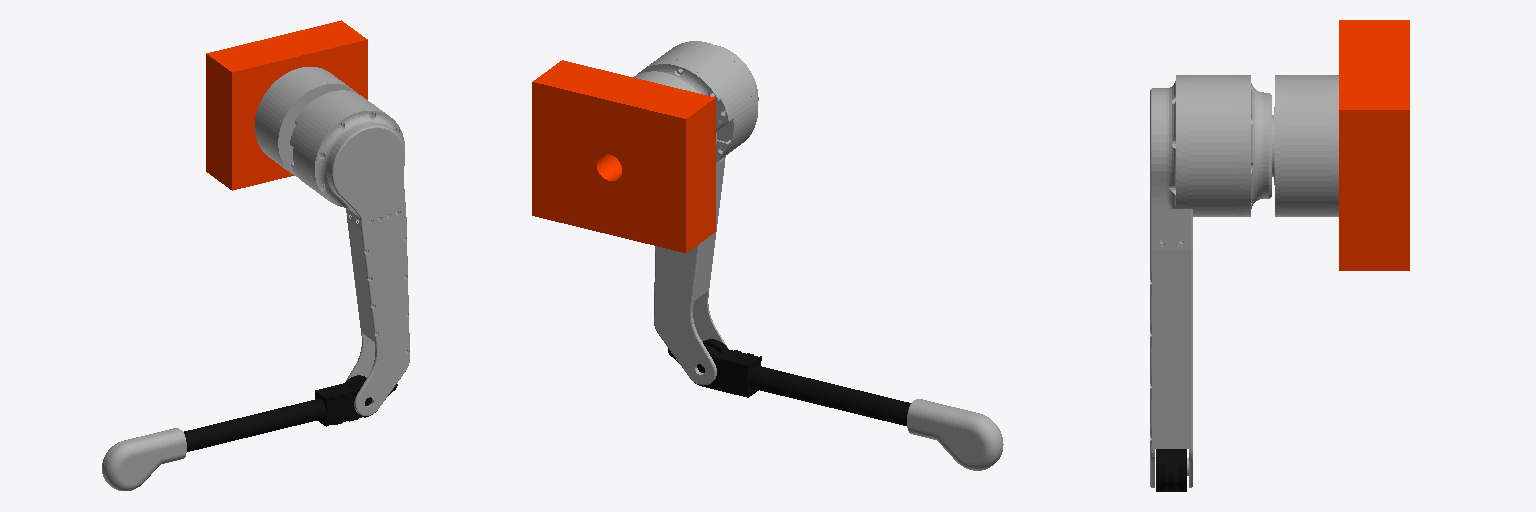
URDF robot description (Nomad):
<?xml version="1.0" ?>
<robot name="Nomad">

<material name="silver">
  <color rgba="0.700 0.700 0.700 1.000"/>
</material>

<material name="orange">
  <color rgba="1.000 0.2706 0.000 1.000"/>
</material>

<material name="black">
  <color rgba="0.100 0.100 0.100 1.000"/>
</material>


<link name="world"/>
<!--
<joint name="leg_to_world_fixed" type="fixed">
    <parent link="world"/>
    <child link="base_link"/>
    <origin xyz="0 0.0 0.5" rpy="0 0 0" />
</joint>
-->

<joint name="leg_to_world" type="prismatic">
    <parent link="world"/>
    <child link="base_link"/>
    <origin xyz="0 0.0 0.0" rpy="0 0 0" />
    <axis xyz="0.0 0.0 1.0"/>
    <limit effort="1000.0" velocity="100.0" lower="-1.0" upper="3.0" />
</joint>


<link name="base_link">
  <inertial>
    <origin rpy="0 0 0" xyz="0.013417226758864191 -0.026438366790666842 -0.03098253987913053"/>
    <mass value="7.166707013041554"/>
    <inertia ixx="0.01106805740051774" ixy="-2.688821387764051e-17" ixz="2.6020852139652106e-18" iyy="0.02336629547074094" iyz="1.6479873021779667e-17" izz="0.015284365992323856"/>
  </inertial>
  <visual>
    <origin rpy="0 0 0" xyz="0 0 0"/>
    <geometry>
      <mesh filename="meshes/base_link.stl" scale="0.001 0.001 0.001"/>
    </geometry>
    <material name="orange"/>
  </visual>
  <collision>
    <origin rpy="0 0 0" xyz="0 0 0"/>
    <geometry>
      <mesh filename="meshes/base_link.stl" scale="0.001 0.001 0.001"/>
    </geometry>
  </collision>
</link>

<link name="hfe_motor">
  <inertial>
    <origin rpy="0 0 0" xyz="2.355489730904159e-07 -0.028017105086293764 0.0005418477318708086"/>
    <mass value="0.22819661408568134"/>
    <inertia ixx="0.00022867987683109544" ixy="-4.8251647875819856e-11" ixz="1.0859538501729535e-12" iyy="0.00033739620126913065" iyz="-3.1919090569470588e-06" izz="0.0002340324473857605"/>
  </inertial>
  <visual>
    <origin rpy="0 0 0" xyz="-0.013417 0.051438 0.030983"/>
    <geometry>
      <mesh filename="meshes/HFE_Actuator1.stl" scale="0.001 0.001 0.001"/>
    </geometry>
    <material name="silver"/>
  </visual>
  <collision>
    <origin rpy="0 0 0" xyz="-0.013417 0.051438 0.030983"/>
    <geometry>
      <mesh filename="meshes/HFE_Actuator1.stl" scale="0.001 0.001 0.001"/>
    </geometry>
  </collision>
</link>

<link name="kfe_motor">
  <inertial>
    <origin rpy="0 0 0" xyz="0.0025125273070217644 -0.03773429985642904 0.00019195849646111082"/>
    <mass value="0.3024397808873297"/>
    <inertia ixx="0.0003757916597388533" ixy="-1.8586947228952733e-05" ixz="1.986498510634429e-06" iyy="0.0004330757435118894" iyz="-1.4167962299270042e-06" izz="0.00034988188581722927"/>
  </inertial>
  <visual>
    <origin rpy="0 0 0" xyz="-0.013417 0.098438 0.030983"/>
    <geometry>
      <mesh filename="meshes/KFE_Actuator1.stl" scale="0.001 0.001 0.001"/>
    </geometry>
    <material name="silver"/>
  </visual>
  <collision>
    <origin rpy="0 0 0" xyz="-0.013417 0.098438 0.030983"/>
    <geometry>
      <mesh filename="meshes/KFE_Actuator1.stl" scale="0.001 0.001 0.001"/>
    </geometry>
  </collision>
</link>

<link name="upper_Leg">
  <inertial>
    <origin rpy="0 0 0" xyz="0.0143586261367187 -0.008509623980640452 -0.09162607915766485"/>
    <mass value="0.28719650282800196"/>
    <inertia ixx="0.0019274860541081355" ixy="-4.984293958382787e-06" ixz="0.00017191518900745132" iyy="0.0020438268444529714" iyz="3.828968680260215e-05" izz="0.00018690033165804504"/>
  </inertial>
  <visual>
    <origin rpy="0 0 0" xyz="-0.013417 0.162438 0.030983"/>
    <geometry>
      <mesh filename="meshes/Upper_Leg1.stl" scale="0.001 0.001 0.001"/>
    </geometry>
    <material name="silver"/>
  </visual>
  <collision>
    <origin rpy="0 0 0" xyz="-0.013417 0.162438 0.030983"/>
    <geometry>
      <mesh filename="meshes/Upper_Leg1.stl" scale="0.001 0.001 0.001"/>
    </geometry>
  </collision>
</link>

<link name="lower_Leg">
  <inertial>
    <origin rpy="0 0 0" xyz="-0.03864247059977867 0.011139963948639364 -0.001983186996966646"/>
    <mass value="0.1002751137848322"/>
    <inertia ixx="1.2789903629975563e-05" ixy="-1.7793573590631695e-07" ixz="-3.4587073565705813e-06" iyy="0.000348285927696753" iyz="7.604946543164626e-09" izz="0.0003440245076319682"/>
  </inertial>
  <visual>
    <origin rpy="0 0 0" xyz="-0.013419 0.180438 0.280983"/>
    <geometry>
      <mesh filename="meshes/Lower_Leg1.stl" scale="0.001 0.001 0.001"/>
    </geometry>
    <material name="black"/>
  </visual>
  <collision>
    <origin rpy="0 0 0" xyz="-0.013419 0.180438 0.280983"/>
    <geometry>
      <mesh filename="meshes/Lower_Leg1.stl" scale="0.001 0.001 0.001"/>
    </geometry>
  </collision>
</link>

<link name="foot">
  <inertial>
    <origin rpy="0 0 0" xyz="-0.022872859875313872 -3.667906789128761e-07 -0.006674882318538133"/>
    <mass value="0.07686399002843462"/>
    <inertia ixx="1.4697350582522362e-05" ixy="2.949029909160572e-17" ixz="-5.876649622509576e-06" iyy="4.390760285276872e-05" iyz="1.2576745200831851e-17" izz="3.596310228595398e-05"/>
  </inertial>
  <visual>
    <origin rpy="0 0 0" xyz="0.211579 0.169438 0.283692"/>
    <geometry>
      <mesh filename="meshes/Foot1.stl" scale="0.001 0.001 0.001"/>
    </geometry>
    <material name="silver"/>
  </visual>
  <collision>
    <origin rpy="0 0 0" xyz="0.211579 0.169438 0.283692"/>
    <geometry>
      <mesh filename="meshes/Foot1.stl" scale="0.001 0.001 0.001"/>
    </geometry>
  </collision>
</link>

<joint name="base_to_hfe_motor" type="fixed">
  <origin rpy="0 0 0" xyz="0.013417 -0.051438 -0.030983"/>
  <parent link="base_link"/>
  <child link="hfe_motor"/>
</joint>

<joint name="hfe_joint" type="continuous">
  <origin rpy="0 0 0" xyz="0.0 -0.047 0.0"/>
  <parent link="hfe_motor"/>
  <child link="kfe_motor"/>
  <axis xyz="0.0 -1.0 -0.0"/>
</joint>

<!--
<transmission name="hip_motor_to_knee_motor_tran">
  <type>transmission_interface/SimpleTransmission</type>
  <joint name="hip_motor_to_knee_motor">
    <hardwareInterface>PositionJointInterface</hardwareInterface>
  </joint>
  <actuator name="hip_motor_to_knee_motor_actr">
    <hardwareInterface>PositionJointInterface</hardwareInterface>
    <mechanicalReduction>1</mechanicalReduction>
  </actuator>
</transmission>
-->
<joint name="knee_motor_upper_leg" type="fixed">
  <origin rpy="0 0 0" xyz="0.0 -0.064 0.0"/>
  <parent link="kfe_motor"/>
  <child link="upper_Leg"/>
</joint>

<joint name="kfe_joint" type="continuous">
  <origin rpy="0 0 0" xyz="2e-06 -0.018 -0.25"/>
  <parent link="upper_Leg"/>
  <child link="lower_Leg"/>
  <axis xyz="0.0 -1.0 -0.0"/>
</joint>

<!--
<transmission name="upper_leg_to_lower_leg_tran">
  <type>transmission_interface/SimpleTransmission</type>
  <joint name="upper_leg_to_lower_leg">
    <hardwareInterface>PositionJointInterface</hardwareInterface>
  </joint>
  <actuator name="upper_leg_to_lower_leg_actr">
    <hardwareInterface>PositionJointInterface</hardwareInterface>
    <mechanicalReduction>1</mechanicalReduction>
  </actuator>
</transmission>
-->

<joint name="knee_to_foot" type="fixed">
  <origin rpy="0 0 0" xyz="-0.224998 0.011 -0.002709"/>
  <parent link="lower_Leg"/>
  <child link="foot"/>
</joint>

</robot>

--- Render facts (derived) ---
3 views of the same robot in one strip: view 1: azimuth 30°, elevation 25°; view 2: azimuth 150°, elevation 25°; view 3: azimuth 270°, elevation 25° (orthographic).
Model Nomad with 7 links and 6 joints (2 continuous, 1 prismatic, 3 fixed), rooted at world, posed all joints at 0.
Visible links, largest first — view 1: upper_Leg, base_link, lower_Leg, hfe_motor, foot, kfe_motor; view 2: base_link, upper_Leg, lower_Leg, kfe_motor, foot, hfe_motor; view 3: base_link, upper_Leg, kfe_motor, hfe_motor, lower_Leg.
Boxes of the visible links, <box> form: upper_Leg: <box>313,109,409,415</box>; base_link: <box>206,20,367,190</box>; lower_Leg: <box>184,375,397,451</box>; hfe_motor: <box>255,67,357,176</box>; foot: <box>102,428,186,490</box>; kfe_motor: <box>290,90,395,198</box>; base_link: <box>532,60,715,252</box>; upper_Leg: <box>654,41,758,385</box>; lower_Leg: <box>668,339,910,425</box>; kfe_motor: <box>637,43,755,162</box>; foot: <box>907,399,1003,470</box>; hfe_motor: <box>633,71,716,144</box>; base_link: <box>1339,20,1409,270</box>; upper_Leg: <box>1150,75,1192,487</box>; kfe_motor: <box>1182,75,1271,216</box>; hfe_motor: <box>1272,75,1338,216</box>; lower_Leg: <box>1156,449,1186,491</box>.
Size in the robot's own frame: 0.3597 by 0.183 by 0.3502 metres.
Meshes: 6 distinct files referenced, 6 mesh visuals loaded (6 binary STL).